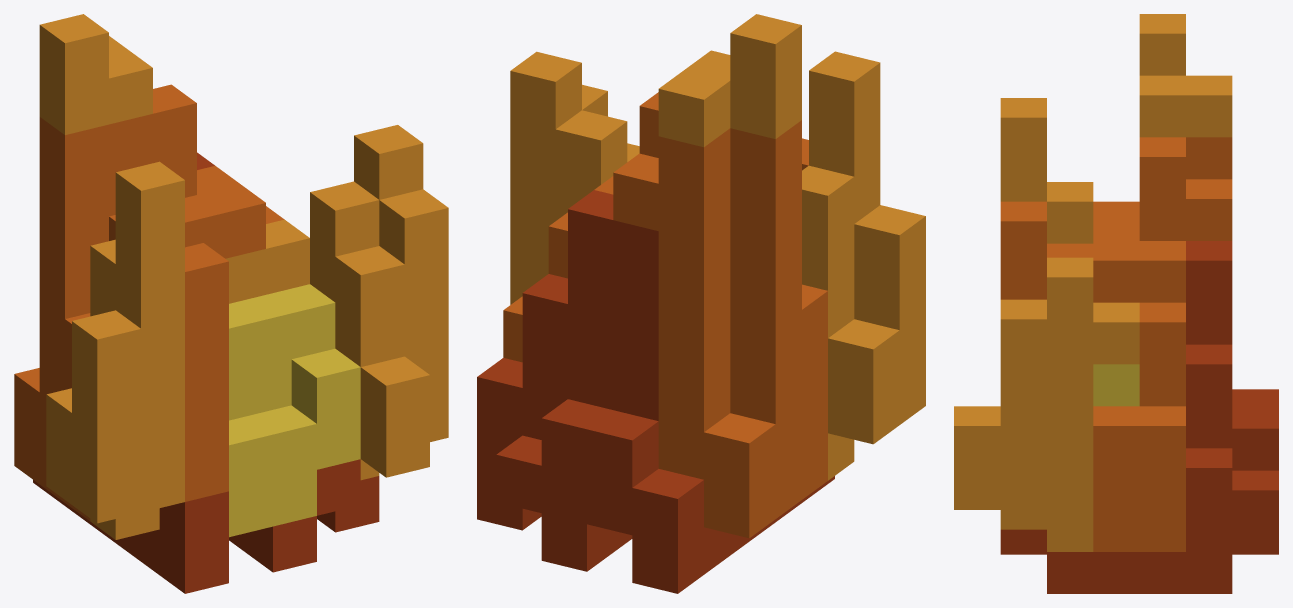
Rendered from flame_00.glb.
3 views of the same model, side by side, from view 1: azimuth 30°, elevation 25°; view 2: azimuth 150°, elevation 25°; view 3: azimuth 270°, elevation 25° (orthographic). The views are drawn at different scales.
Parts seen in each view (by area): view 1: flame_00; view 2: flame_00; view 3: flame_00.
Part boxes in pixels (x1=…): flame_00: x1=14, y1=14, x2=448, y2=593; flame_00: x1=477, y1=14, x2=925, y2=593; flame_00: x1=954, y1=14, x2=1278, y2=593.
Bounding box in the file's own units: 1 × 1.38 × 0.875.
